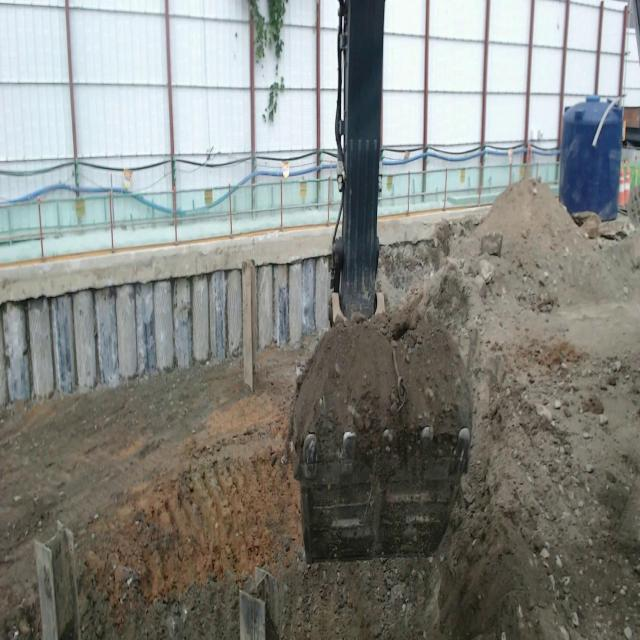white-sand: (0, 180, 640, 639), (293, 300, 472, 462)
